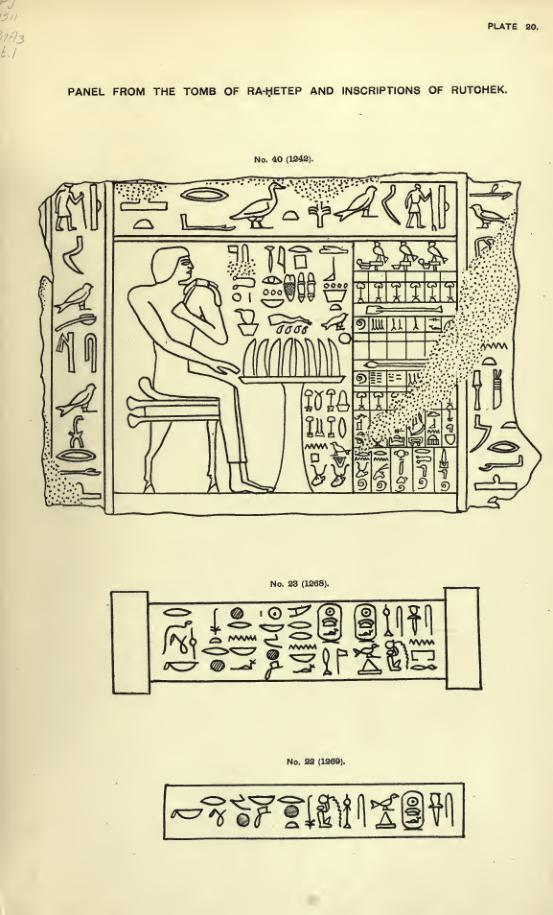circle: (399, 785, 429, 832), (314, 602, 345, 645), (353, 602, 380, 644)
